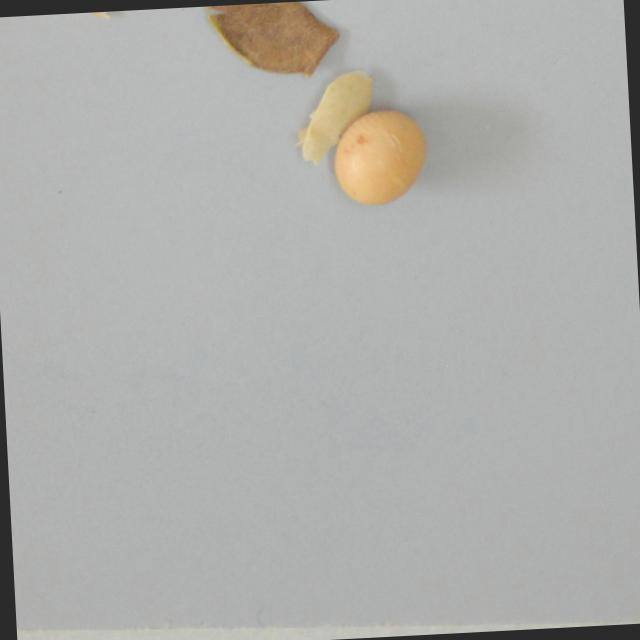cuerpos_extranos: (199, 0, 344, 83), (326, 107, 432, 217), (293, 65, 385, 175), (52, 10, 126, 24)
